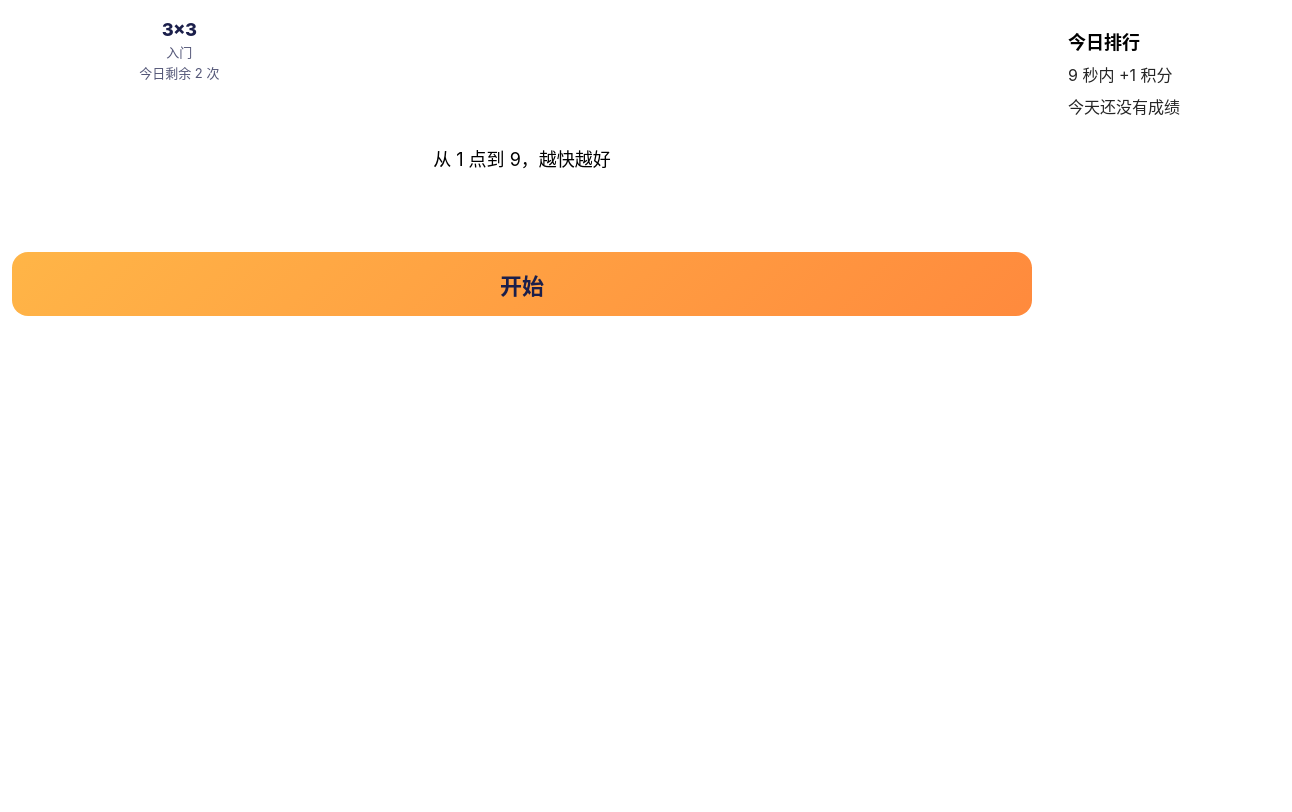
Test: SchulteGrid › advances only when the next number is tapped
Click the button "开始".
click(522, 284)  # box [12,252,1032,316]
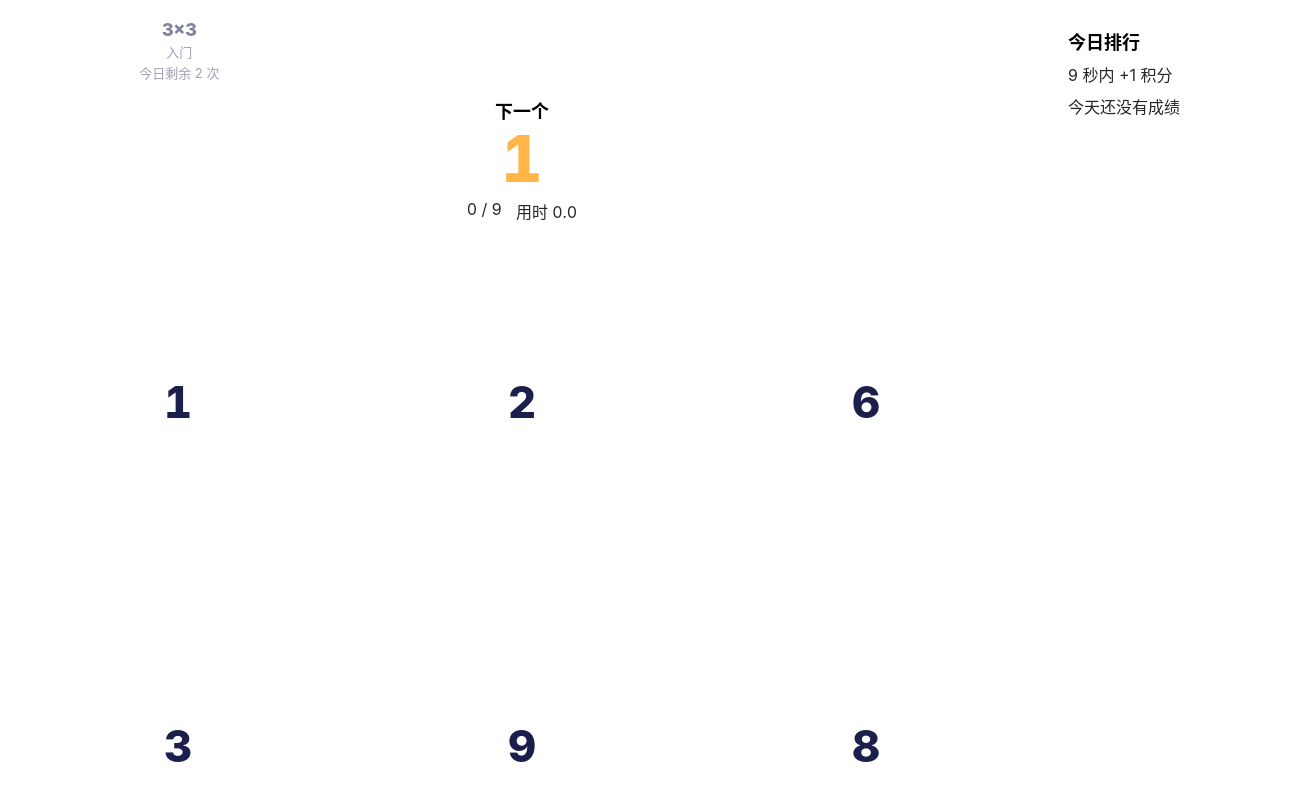
Result: the text with class "next-num" reads "1" at [501,120,543,197]
Click the button with class "cell" showing "2".
click(522, 402)  # box [356,236,688,568]
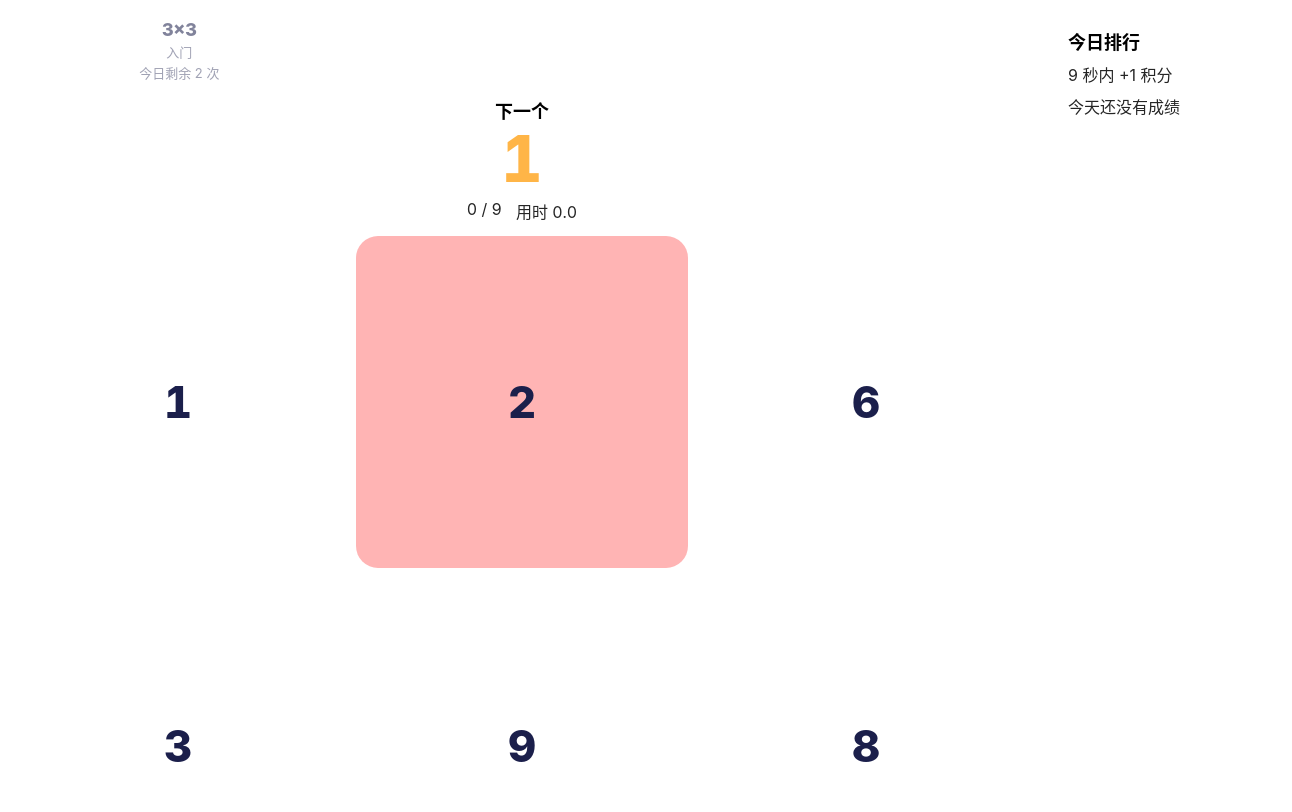
Result: the text with class "next-num" reads "1" at [501,120,543,197]
Click the button with class "cell" showing "1".
click(178, 402)  # box [12,236,344,568]
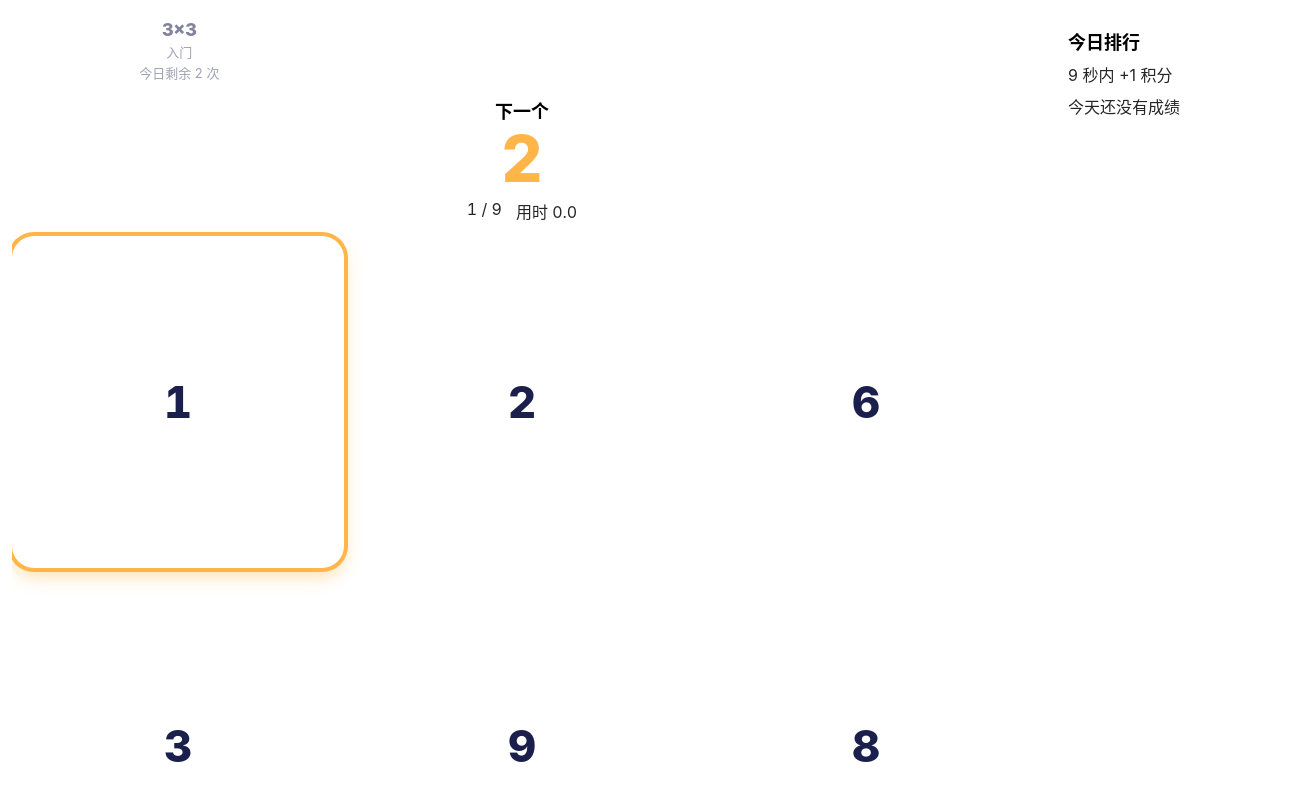
Result: the text with class "next-num" reads "2" at [501,120,543,197]
Result: the button with class "cell" showing "1" is disabled at [12,236,344,568]
